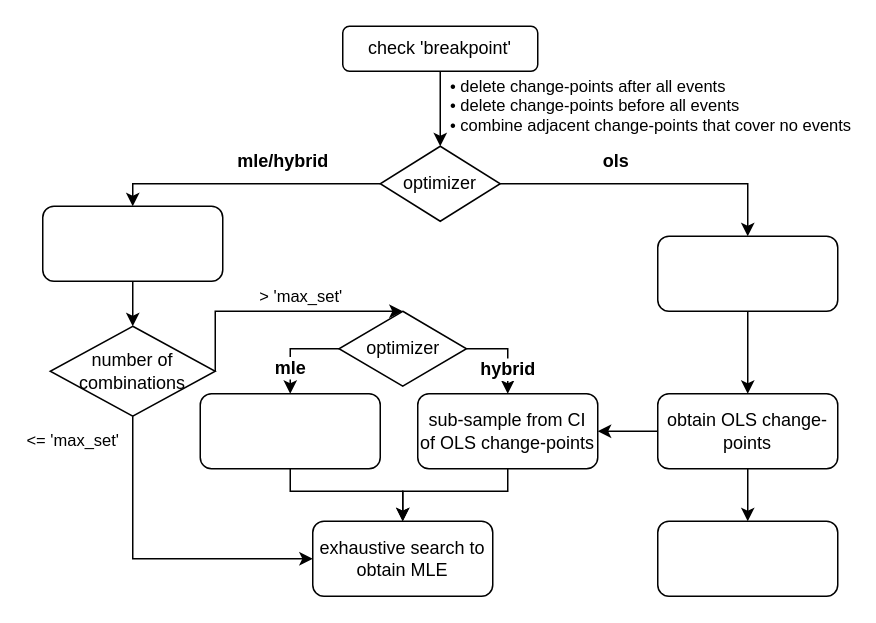
Image size: 876x623. Some labels were removed from this diagram. The centre of each missing label's shape, as x and y in pixels:
estimate MLE hazard rates: the point at 747,558
fit a piecewise linear regression on log(S): the point at 747,273
list all potential change-points combinations: the point at 132,243
uniform sub-sample: the point at 289,430
